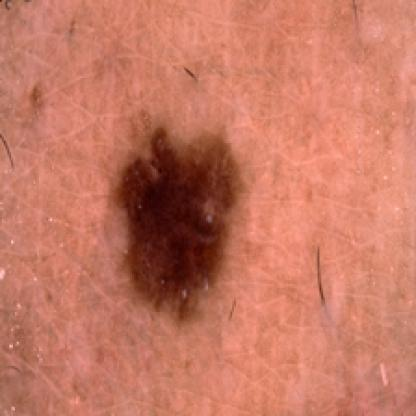Skin_Cancer-Malignant: (106, 117, 249, 329)
